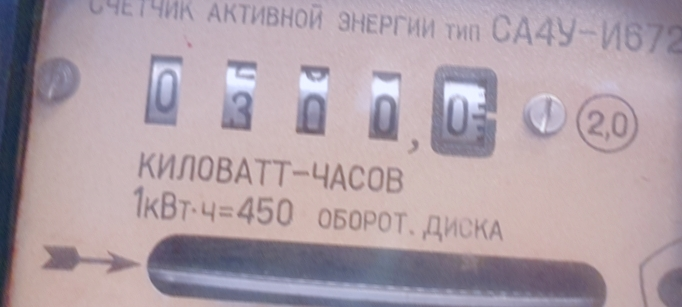0: (441, 90, 472, 140), (151, 63, 180, 116), (367, 91, 399, 139), (296, 88, 327, 137)
3: (224, 86, 255, 131)
screen: (122, 36, 509, 168)
